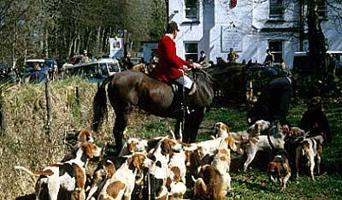person: (149, 21, 203, 119)
